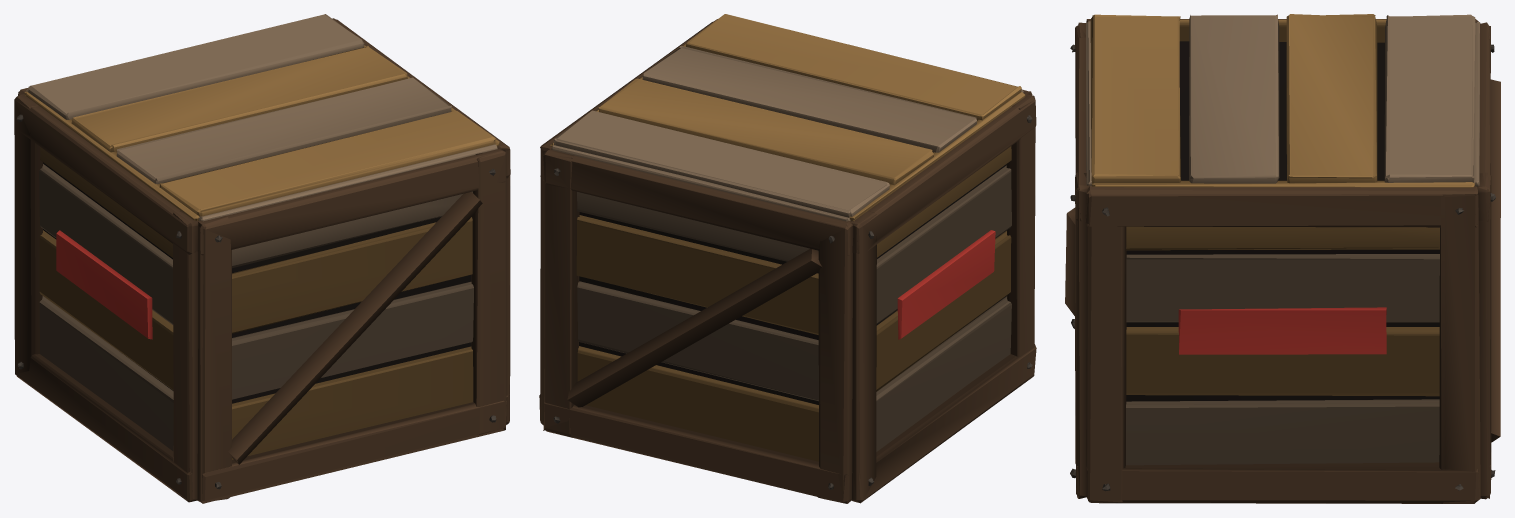
File: crate.glb
3 views of the same model, side by side, from view 1: azimuth 30°, elevation 25°; view 2: azimuth 150°, elevation 25°; view 3: azimuth 270°, elevation 25° (orthographic). The views are drawn at different scales.
Visible parts, largest first — view 1: Crate; view 2: Crate; view 3: Crate.
Boxes of the visible parts, x1,y1,x2,y2 form: Crate: (14,14,510,503); Crate: (539,14,1036,503); Crate: (1065,14,1500,503).
Size of the model in its own units: 0.8714 by 0.7281 by 0.8884.
